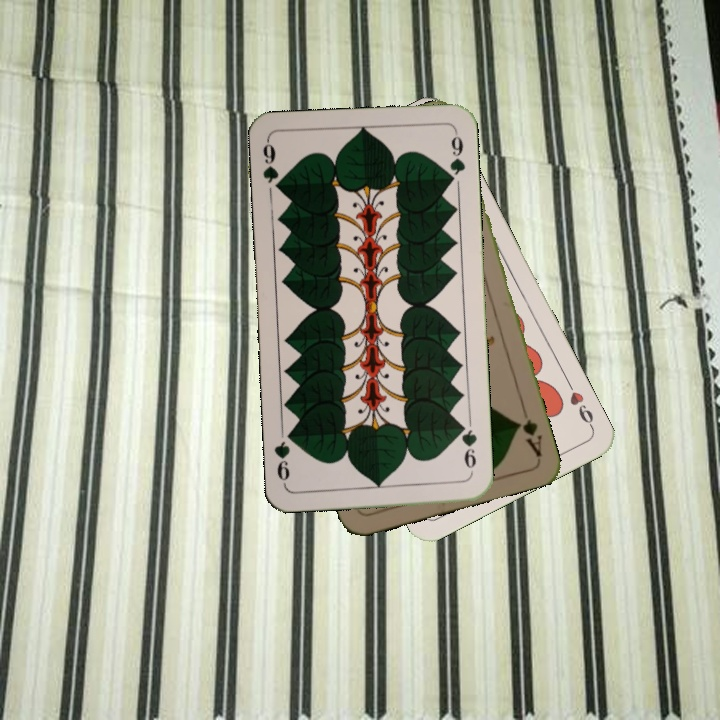G9: (259, 137, 286, 196), (455, 418, 479, 477)
GA: (513, 415, 545, 460)
H9: (562, 377, 596, 432)
